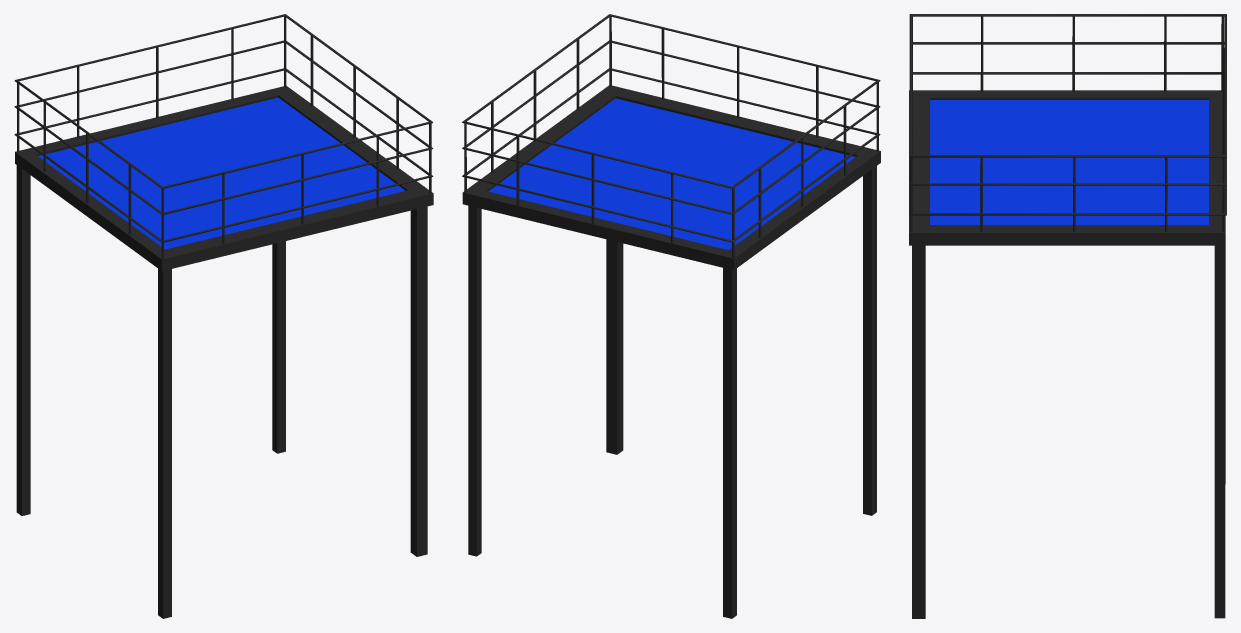
The model's file is AR_END_PLATFORM_V1.FBX.
3 views of the same model, side by side, from view 1: azimuth 30°, elevation 25°; view 2: azimuth 150°, elevation 25°; view 3: azimuth 270°, elevation 25° (orthographic). The views are drawn at different scales.
Parts seen in each view (by area): view 1: AR_END_PLATFORM, AR_END_FLOOR; view 2: AR_END_PLATFORM, AR_END_FLOOR; view 3: AR_END_FLOOR, AR_END_PLATFORM.
Boxes of the visible parts, bbox=[...] form: AR_END_PLATFORM: bbox=[14, 14, 433, 618]; AR_END_FLOOR: bbox=[38, 97, 405, 249]; AR_END_PLATFORM: bbox=[462, 14, 880, 618]; AR_END_FLOOR: bbox=[488, 98, 855, 249]; AR_END_FLOOR: bbox=[930, 100, 1208, 224]; AR_END_PLATFORM: bbox=[909, 14, 1226, 618].
Size of the model in its own units: 138 by 211 by 130.
